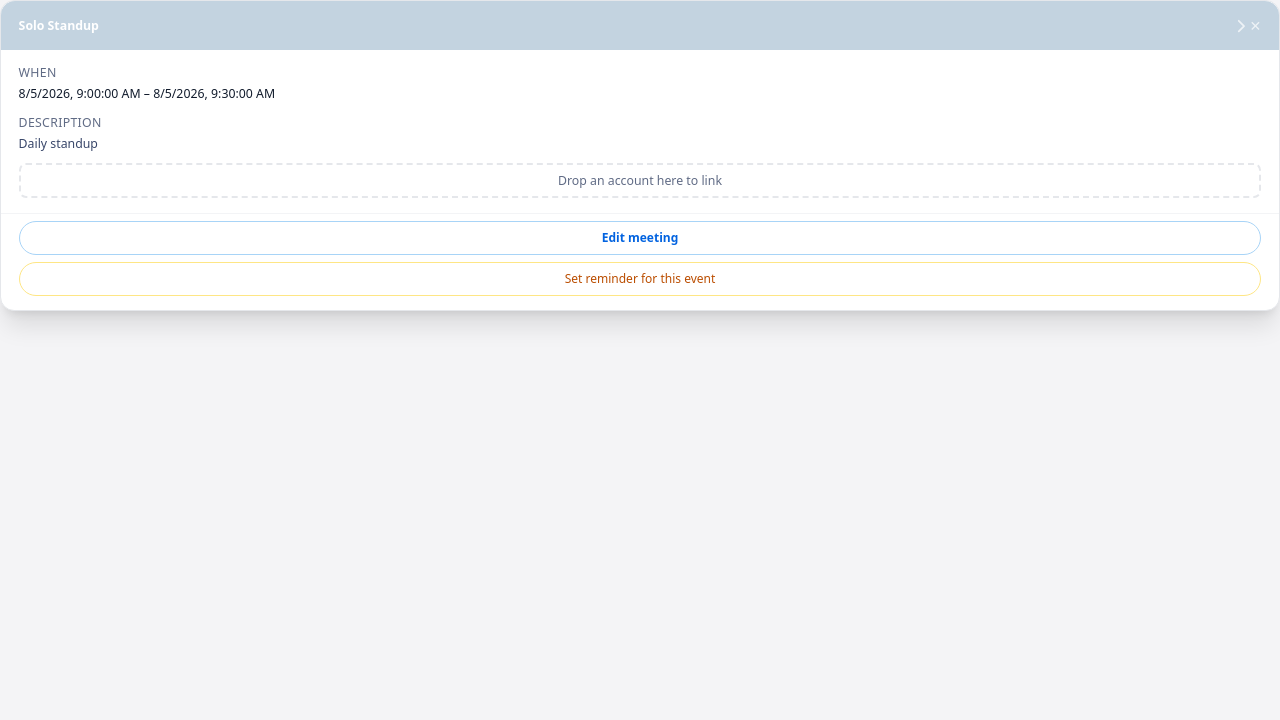
Test: EventDetailPanel — meeting edit mode › Cancel exits edit mode without saving
The width and height of the screenshot is (1280, 720).
Click the button "Edit meeting". click: {"x": 640, "y": 238}
box: x1=19 y1=220 x2=1261 y2=255
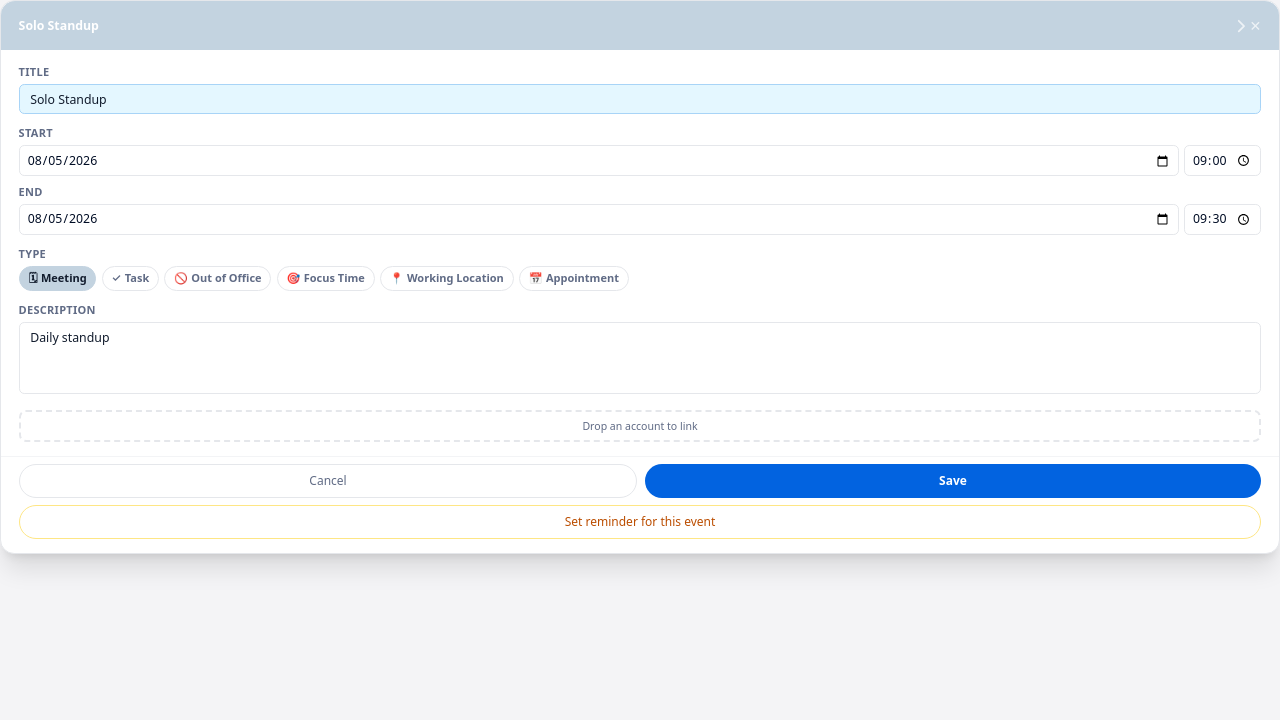
Click the button "Cancel". click: {"x": 328, "y": 481}
box: x1=19 y1=464 x2=638 y2=498
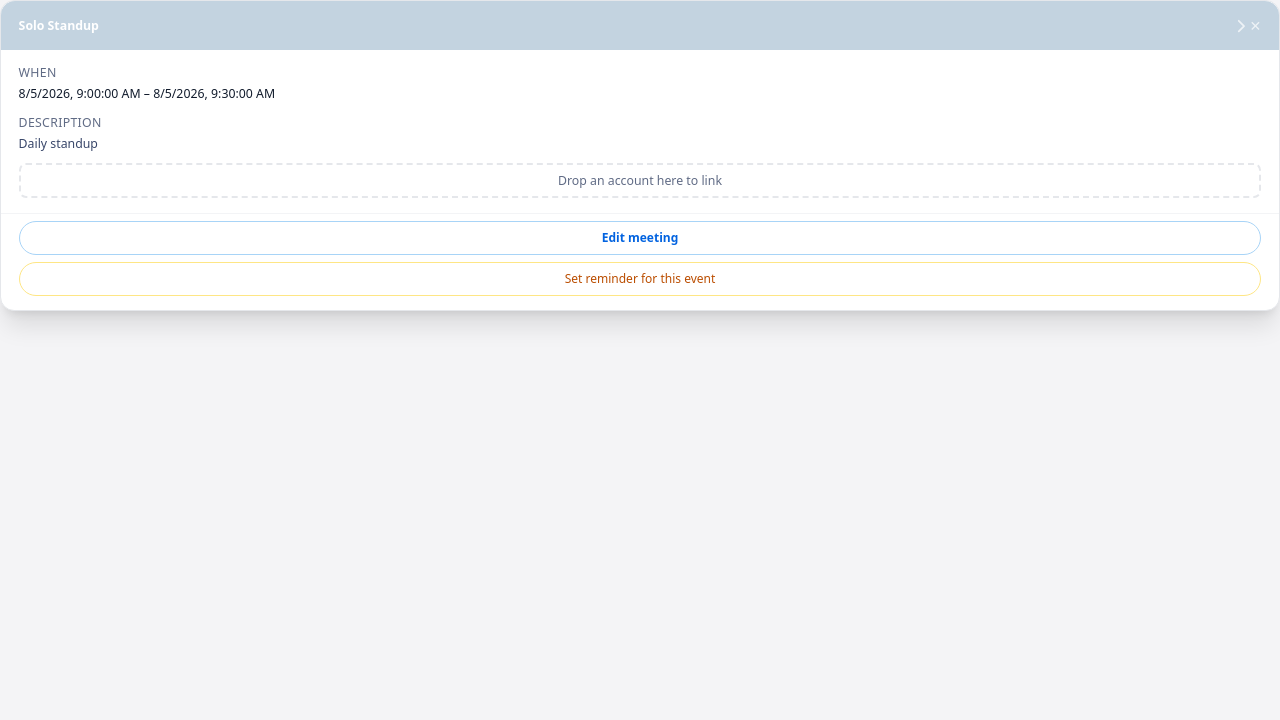
expect the button "Save" is gone: met
expect the button "Edit meeting" is shown: met, box x1=19 y1=220 x2=1261 y2=255
